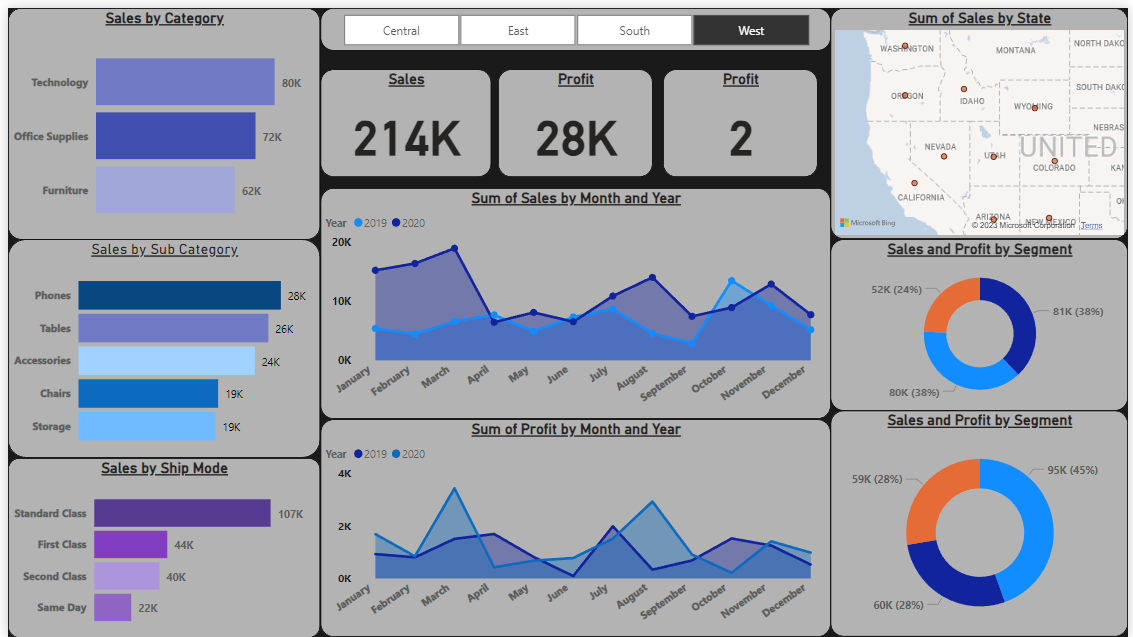

The dashboard page shown, as its layout file describes it:
{"tool":"powerbi","page":{"name":"Page 1","canvas":[1280,720],"ordinal":0},"visuals":[{"type":"clusteredBarChart","title":"Sales by Category","fields":{"Category":["SuperStore Sales DataSet xlsx - Sheet1.Category"],"Y":["Sum(SuperStore Sales DataSet xlsx - Sheet1.Sales)"]},"box":[0,0,356.5,264.6],"z":0},{"type":"clusteredBarChart","title":"Sales by Sub Category","fields":{"Category":["SuperStore Sales DataSet xlsx - Sheet1.Sub-Category"],"Y":["Sum(SuperStore Sales DataSet xlsx - Sheet1.Sales)"]},"box":[0,264.6,356.5,249.5],"z":1000},{"type":"clusteredBarChart","title":"Sales by Ship Mode","fields":{"Category":["SuperStore Sales DataSet xlsx - Sheet1.Ship Mode"],"Y":["Sum(SuperStore Sales DataSet xlsx - Sheet1.Sales)"]},"box":[0,514.1,356.5,205.7],"z":2000},{"type":"areaChart","fields":{"Category":["SuperStore Sales DataSet xlsx - Sheet1.Order Date.Variation.Date Hierarchy.Month"],"Y":["Sum(SuperStore Sales DataSet xlsx - Sheet1.Sales)"],"Series":["SuperStore Sales DataSet xlsx - Sheet1.Order Date.Variation.Date Hierarchy.Year"]},"box":[357.1,205.7,582.9,264.3],"z":3000},{"type":"areaChart","fields":{"Category":["SuperStore Sales DataSet xlsx - Sheet1.Order Date.Variation.Date Hierarchy.Month"],"Series":["SuperStore Sales DataSet xlsx - Sheet1.Order Date.Variation.Date Hierarchy.Year"],"Y":["Sum(SuperStore Sales DataSet xlsx - Sheet1.Profit)"]},"box":[357.1,470,582.9,248.6],"z":4000},{"type":"map","fields":{"Category":["SuperStore Sales DataSet xlsx - Sheet1.State"]},"box":[940,0,340,264.3],"z":5000},{"type":"donutChart","title":"Sales and Profit by Segment","fields":{"Category":["SuperStore Sales DataSet xlsx - Sheet1.Segment"],"Y":["Sum(SuperStore Sales DataSet xlsx - Sheet1.Sales)"]},"box":[940,460,340,258.6],"z":6000},{"type":"donutChart","title":"Sales and Profit by Segment","fields":{"Category":["SuperStore Sales DataSet xlsx - Sheet1.Payment Mode"],"Y":["Sum(SuperStore Sales DataSet xlsx - Sheet1.Sales)"]},"box":[940,264.3,340,195.7],"z":7000},{"type":"slicer","fields":{"Values":["SuperStore Sales DataSet xlsx - Sheet1.Region"]},"box":[357.1,0,582.9,48.6],"z":8000},{"type":"card","title":"Sales","fields":{"Values":["Sum(SuperStore Sales DataSet xlsx - Sheet1.Sales)"]},"box":[356.7,70,195,123.3],"z":8001},{"type":"card","title":"Profit ","fields":{"Values":["Sum(SuperStore Sales DataSet xlsx - Sheet1.Profit)"]},"box":[560,70,176.7,123.3],"z":8002},{"type":"card","title":"Profit ","fields":{"Values":["Avg(SuperStore Sales DataSet xlsx - Sheet1.Average delivery days)"]},"box":[748.3,70,176.7,123.3],"z":8003}]}

Visuals, with their boxes in screenshot pixels (x1, y1, x2, y2), scaled from the page's 1280x720 canvas onto the 1133x637 screenshot:
"Sales by Category" clusteredBarChart: BBox(0, 0, 316, 234)
"Sales by Sub Category" clusteredBarChart: BBox(0, 234, 316, 455)
"Sales by Ship Mode" clusteredBarChart: BBox(0, 455, 316, 636)
areaChart - SuperStore Sales DataSet xlsx - Sheet1.Order Date.Variation.Date Hierarchy.Month x Sum(SuperStore Sales DataSet xlsx - Sheet1.Sales): BBox(316, 182, 832, 416)
areaChart - SuperStore Sales DataSet xlsx - Sheet1.Order Date.Variation.Date Hierarchy.Month x SuperStore Sales DataSet xlsx - Sheet1.Order Date.Variation.Date Hierarchy.Year: BBox(316, 416, 832, 636)
map - SuperStore Sales DataSet xlsx - Sheet1.State: BBox(832, 0, 1132, 234)
"Sales and Profit by Segment" donutChart: BBox(832, 407, 1132, 636)
"Sales and Profit by Segment" donutChart: BBox(832, 234, 1132, 407)
slicer - SuperStore Sales DataSet xlsx - Sheet1.Region: BBox(316, 0, 832, 43)
"Sales" card: BBox(316, 62, 488, 171)
"Profit " card: BBox(496, 62, 652, 171)
"Profit " card: BBox(662, 62, 819, 171)
